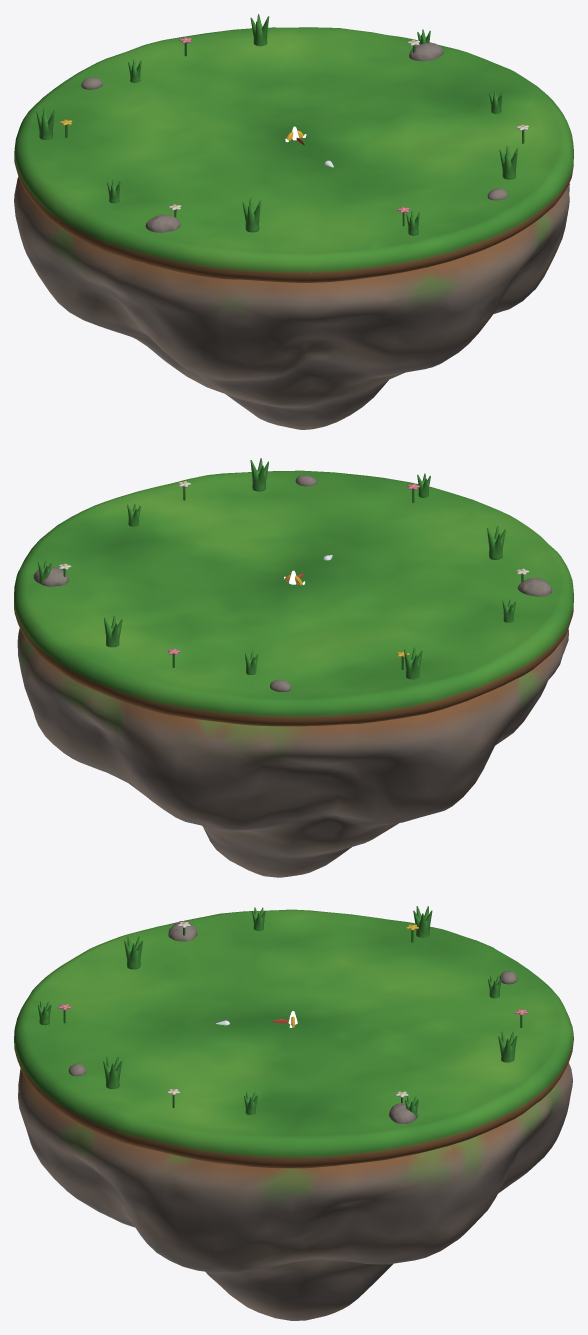
File: props.glb
3 views of the same model, one above another, from view 1: azimuth 30°, elevation 25°; view 2: azimuth 150°, elevation 25°; view 3: azimuth 270°, elevation 25° (orthographic).
Parts seen in each view (by area): view 1: islet; view 2: islet; view 3: islet.
Part boxes in pixels (bbox=[...]): islet: bbox=[14, 14, 573, 429]; islet: bbox=[14, 458, 573, 877]; islet: bbox=[14, 906, 573, 1320].
Size of the model in its own units: 2.51 by 1.52 by 2.5.
